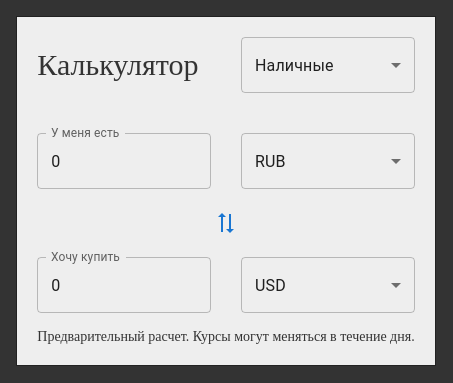
Калькулятор › RUB -> currency › есть ? (950.00) RUB, хочу 10 USD
The image size is (453, 383).
Type "10" into the field labelled "Хочу купить" at (124, 285), box [37,257,211,313]
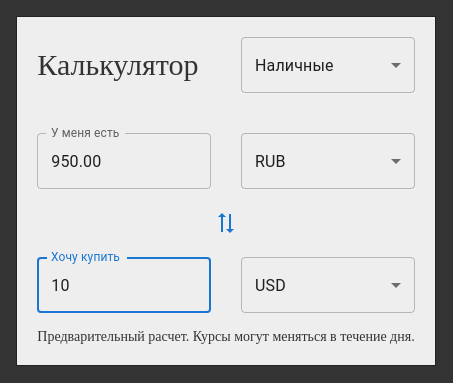
Now the field showing "950.00" is shown, box [37,133,211,189]
